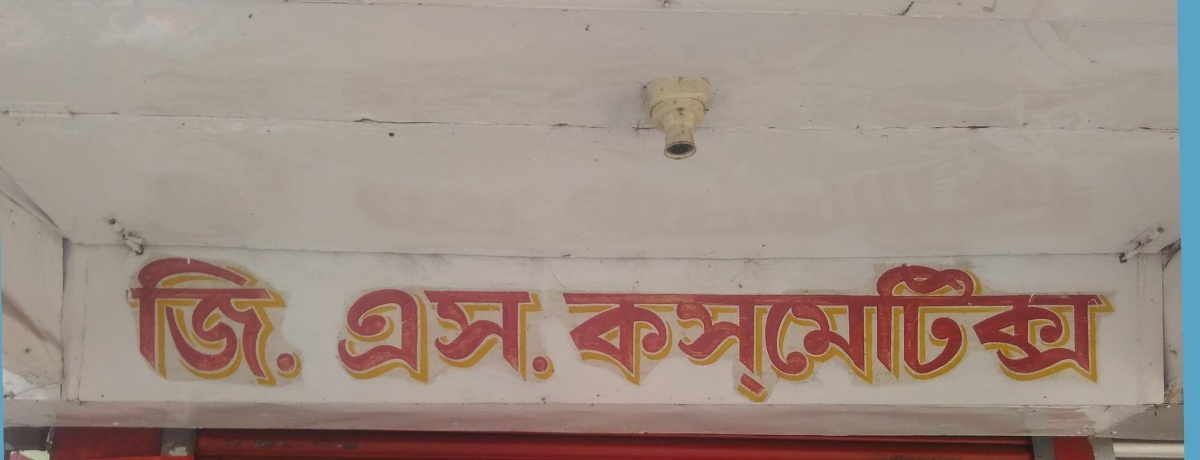text: (289, 256, 305, 392), (561, 262, 576, 405), (577, 262, 592, 405), (593, 262, 608, 405), (609, 262, 624, 405), (625, 262, 640, 405), (641, 262, 656, 405), (657, 262, 672, 405), (673, 262, 688, 405), (689, 262, 704, 405), (705, 262, 720, 405), (721, 262, 736, 405), (737, 262, 752, 405), (753, 262, 768, 405), (769, 262, 784, 405), (785, 262, 800, 405), (801, 262, 816, 405), (817, 262, 832, 405), (833, 262, 848, 405), (849, 262, 864, 405), (865, 262, 880, 405), (881, 262, 896, 405), (897, 262, 912, 405), (913, 262, 928, 405), (929, 262, 944, 405), (945, 262, 960, 405), (961, 262, 976, 405), (977, 262, 992, 405), (993, 262, 1008, 405), (1009, 262, 1024, 405), (1025, 262, 1040, 405), (1041, 262, 1056, 405), (1057, 262, 1072, 405), (1073, 262, 1088, 405), (1089, 262, 1104, 405), (129, 256, 144, 392), (145, 256, 160, 392), (161, 256, 176, 392), (177, 256, 192, 392), (193, 256, 208, 392), (209, 256, 224, 392), (225, 256, 240, 392), (241, 256, 256, 392), (257, 256, 272, 392), (273, 256, 288, 392), (1105, 262, 1118, 405), (353, 284, 368, 384), (369, 284, 384, 384), (385, 284, 400, 384), (401, 284, 416, 384), (417, 284, 432, 384), (433, 284, 448, 384), (449, 284, 464, 384), (465, 284, 480, 384), (481, 284, 496, 384), (497, 284, 512, 384), (513, 284, 528, 384), (529, 284, 544, 384), (338, 284, 352, 384), (545, 284, 555, 384)
